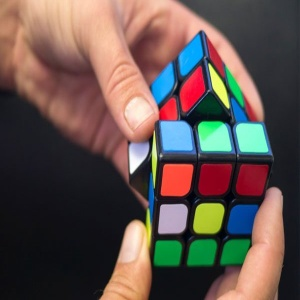cube: (124, 31, 274, 269)
